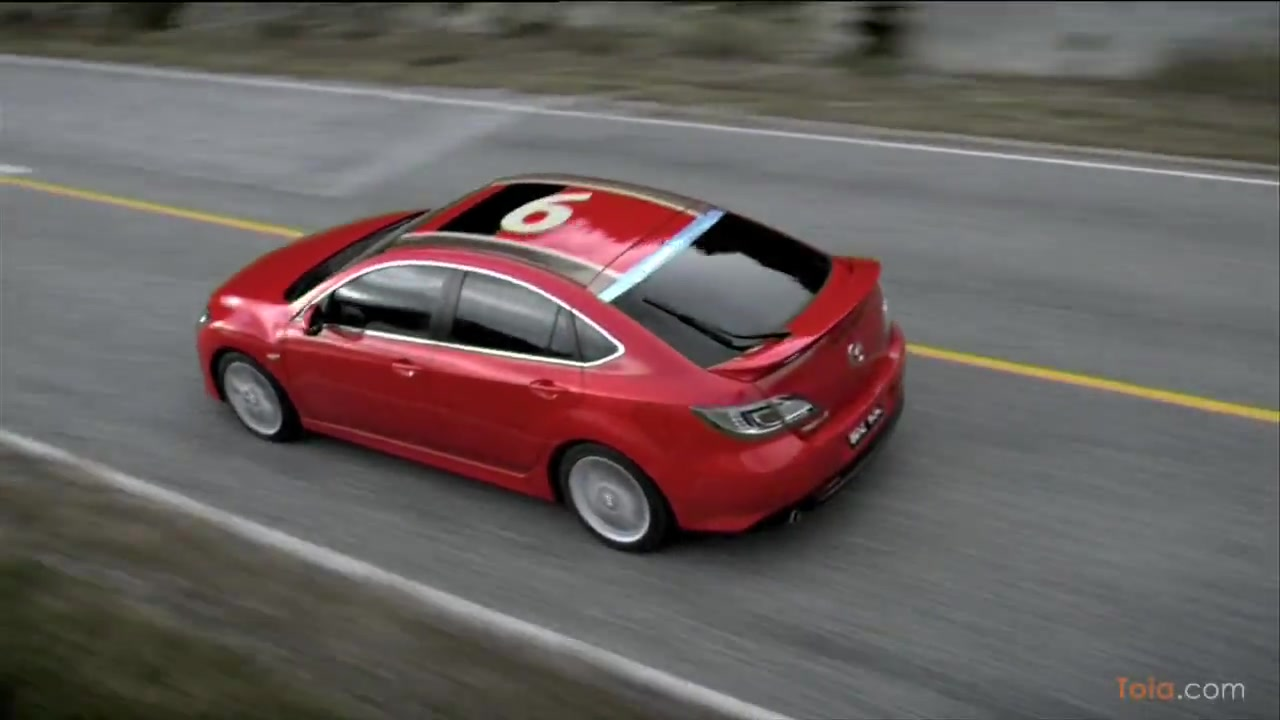car: (194, 171, 915, 557)
